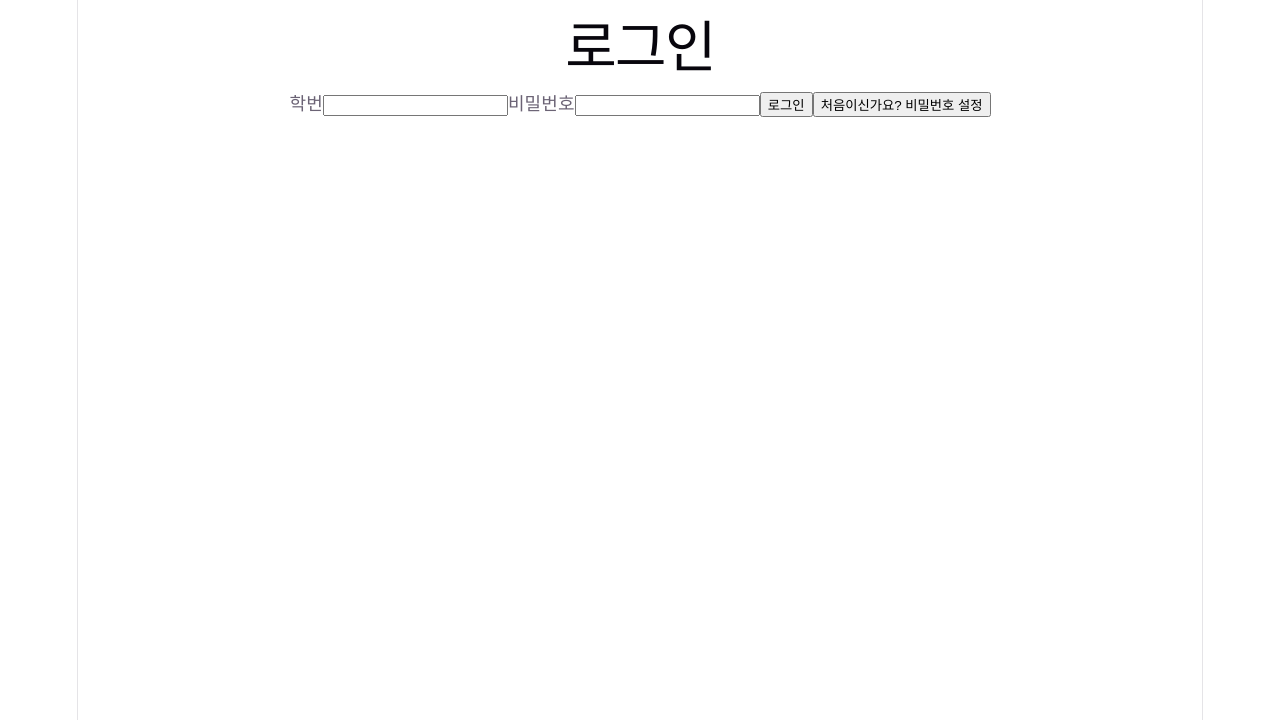
Scenario: App › 로그인 실패 시 오류 메시지를 보여준다
Type "20240001" into the field labelled "학번".
click(415, 106); type("20240001")  # box [323,95,508,116]
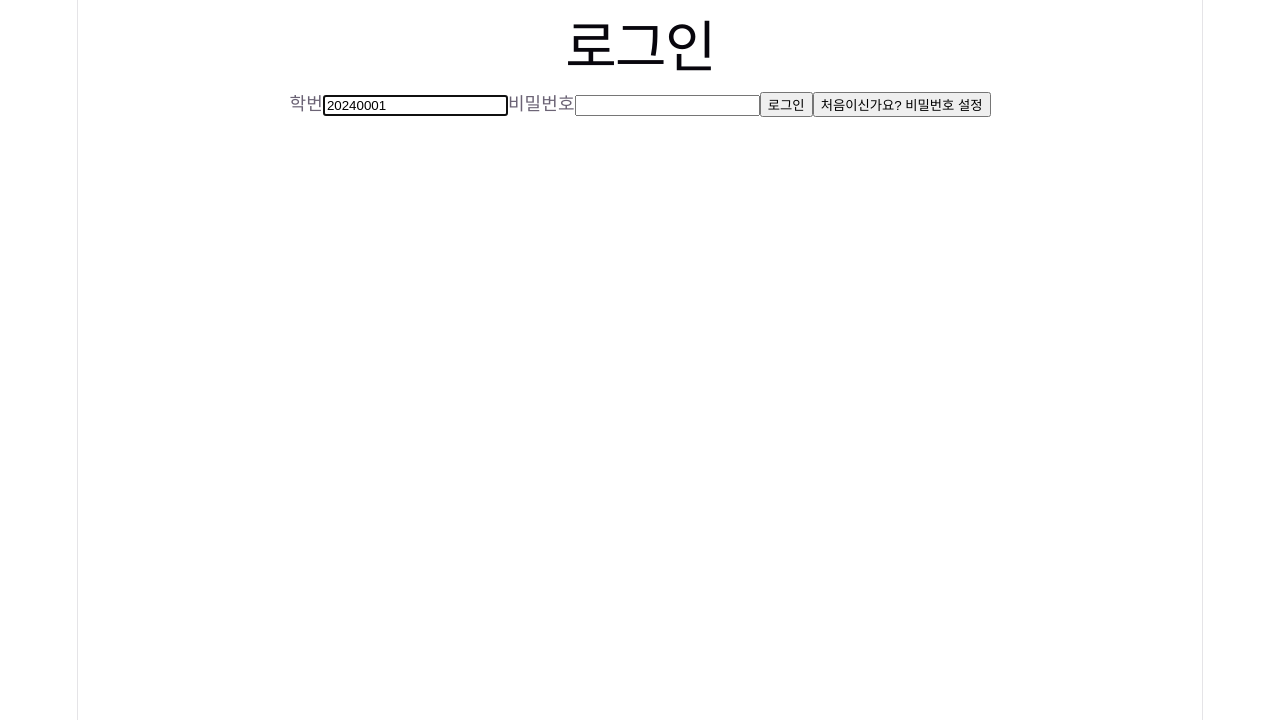
Type "wrong-password" into the password field labelled "비밀번호".
click(667, 106); type("wrong-password")  # box [575,95,760,116]
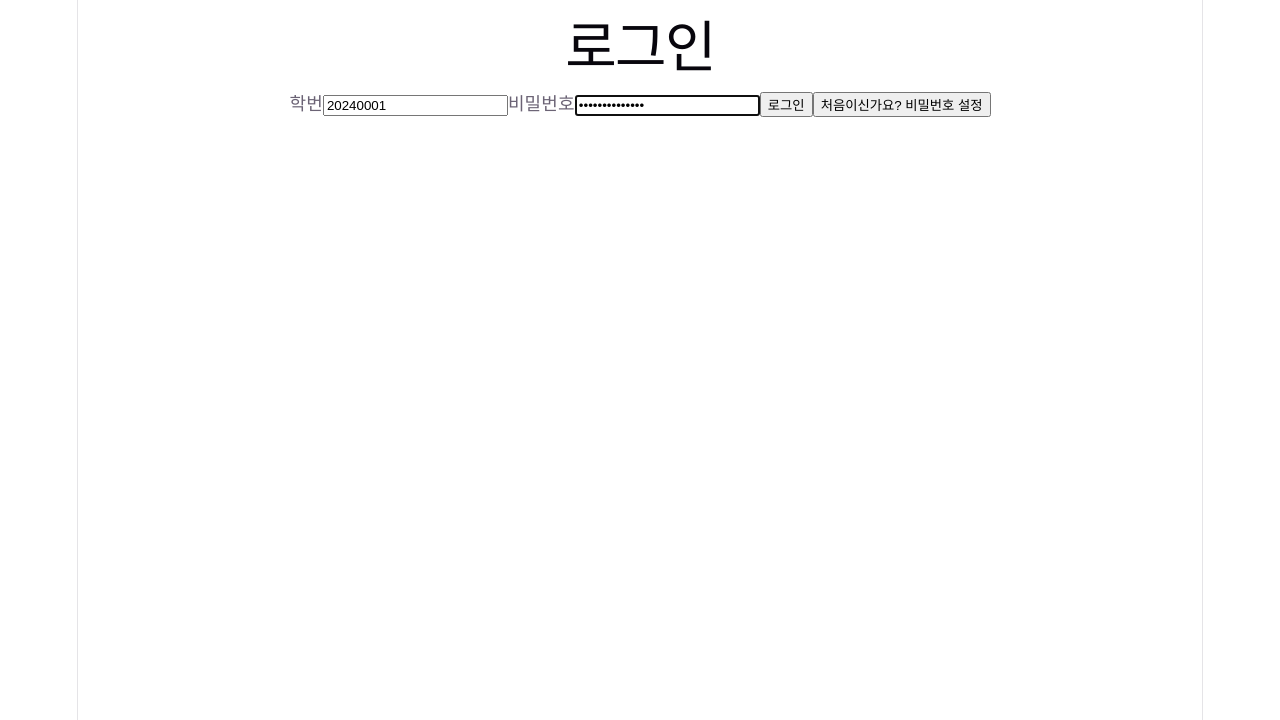
Click the button "로그인".
click(786, 105)  # box [760,92,813,117]
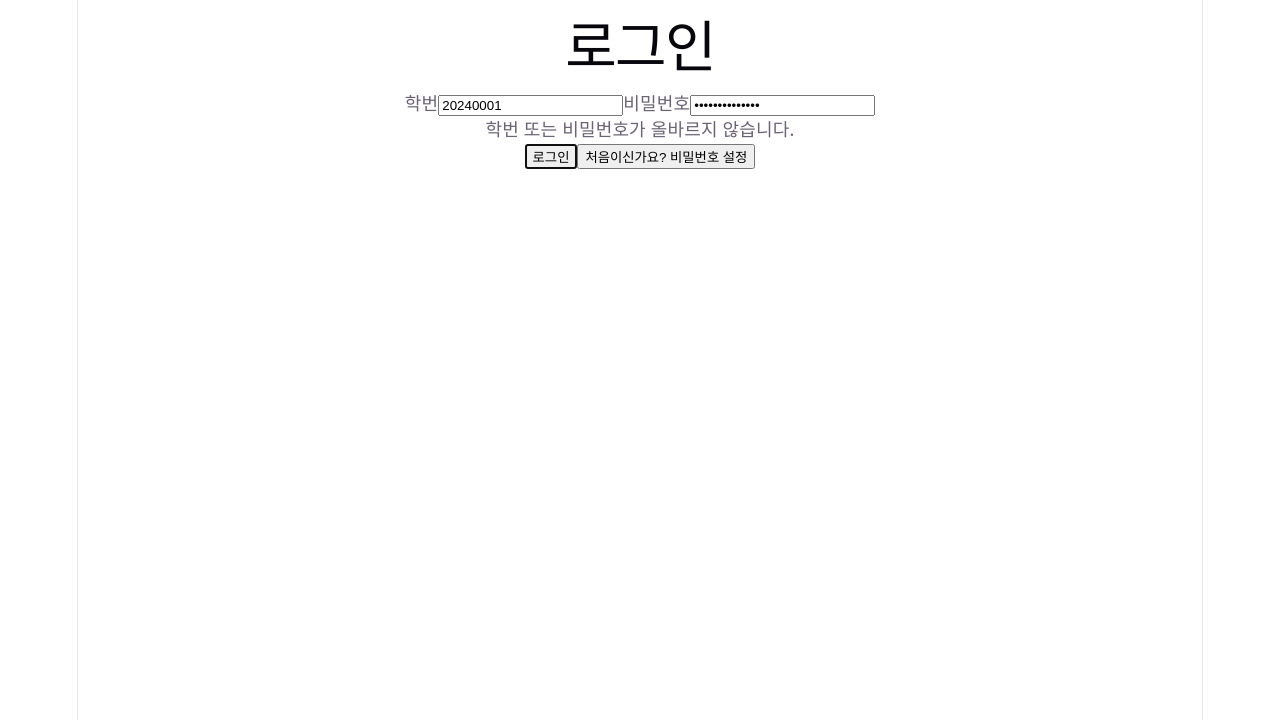
Check: the message shows "올바르지 않습니다", box [486,117,794,141]
